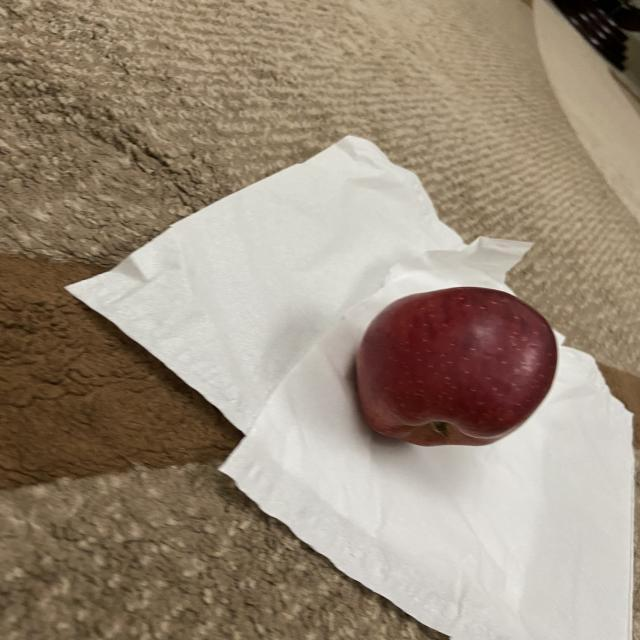apple: (350, 286, 561, 452)
